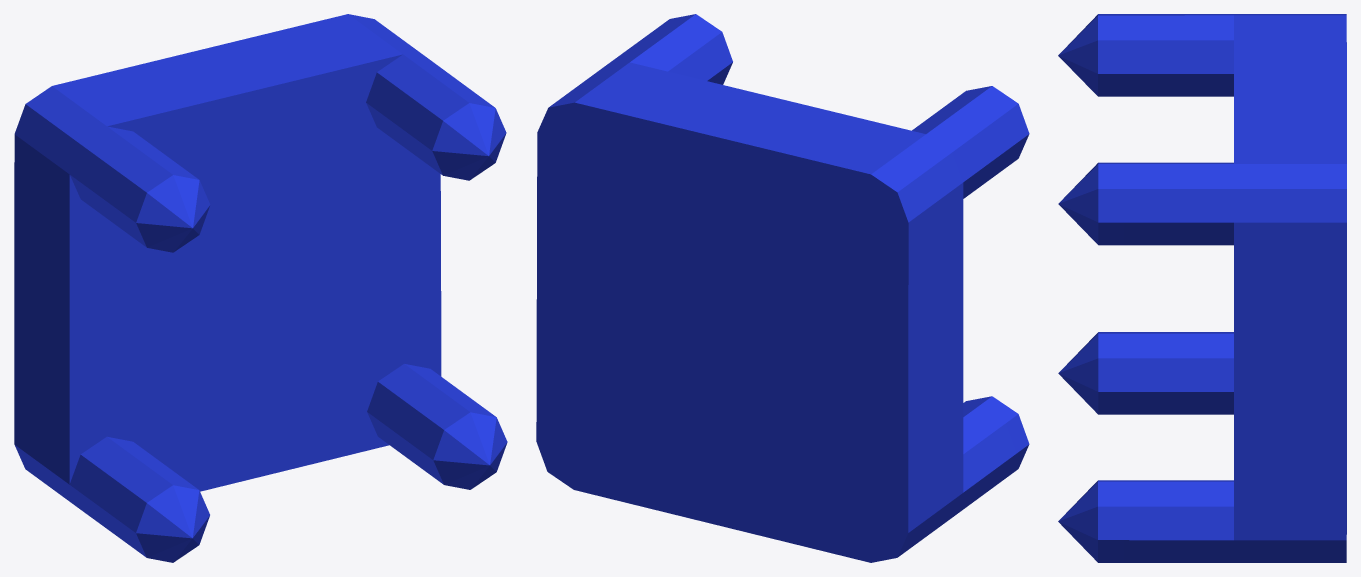
File: barack.glb
3 renders of one model, left to right at view 1: azimuth 30°, elevation 25°; view 2: azimuth 150°, elevation 25°; view 3: azimuth 270°, elevation 25°, orthographic. The views are drawn at different scales.
Parts seen in each view (by area): view 1: Cube; view 2: Cube; view 3: Cube.
Part boxes in pixels (x1,y1,x2,y2): Cube: [14, 14, 507, 562]; Cube: [536, 14, 1029, 562]; Cube: [1058, 14, 1346, 562].
Bounding box in the file's own units: 2 × 2 × 1.31.
